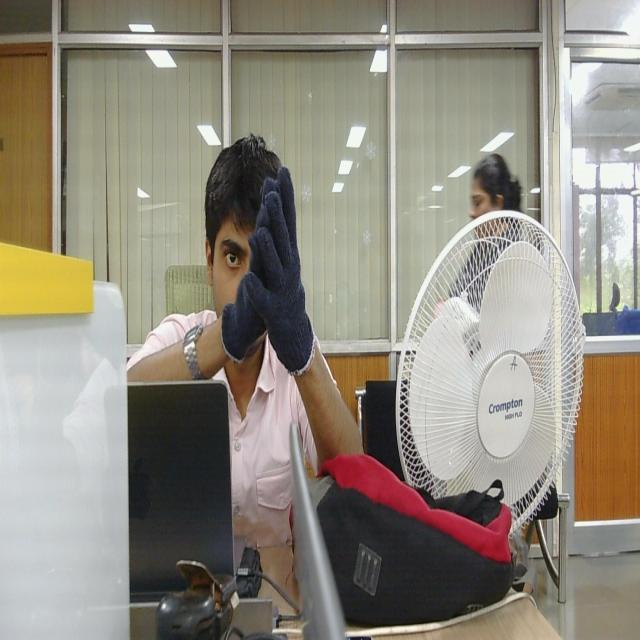Gloves-Detection: (220, 172, 315, 372)
